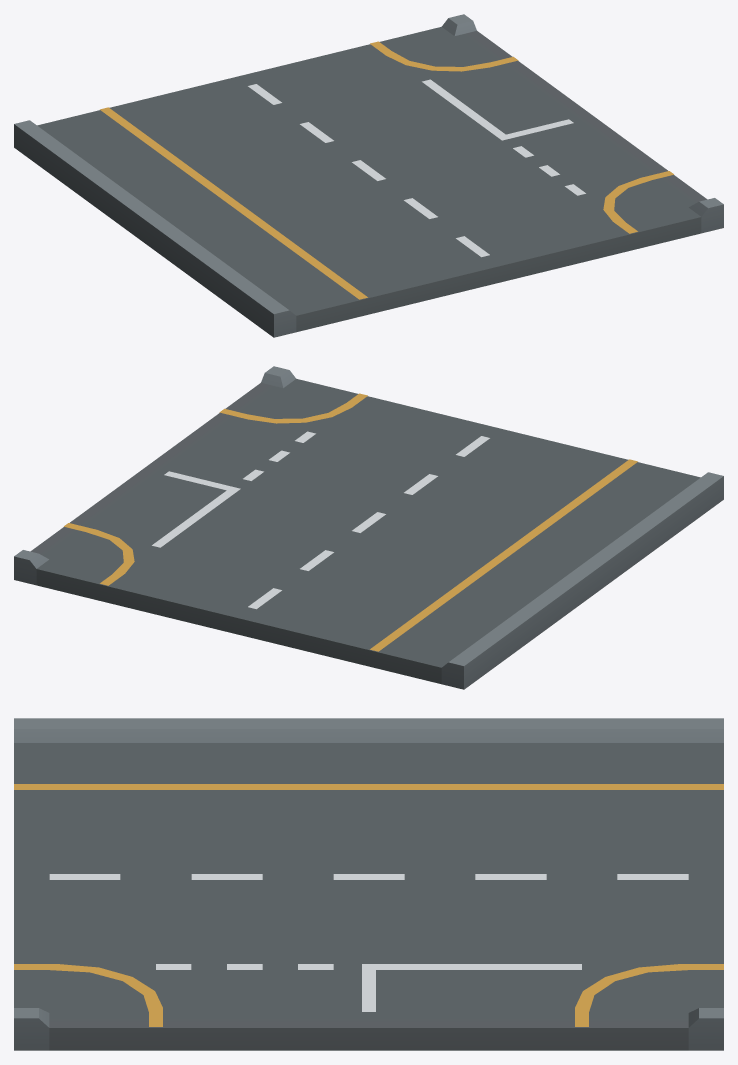
Rendered from intersection2.glb.
3 renders of one model, top to bottom at view 1: azimuth 30°, elevation 25°; view 2: azimuth 150°, elevation 25°; view 3: azimuth 270°, elevation 25°, orthographic. The views are drawn at different scales.
Visible parts, largest first — view 1: road_tsplit; view 2: road_tsplit; view 3: road_tsplit.
Part boxes in pixels (bbox=[...]): road_tsplit: bbox=[14, 14, 723, 337]; road_tsplit: bbox=[14, 366, 723, 689]; road_tsplit: bbox=[14, 718, 723, 1050].
Size of the model in its own units: 2 by 0.1 by 2.
1 material, 1 textured.
